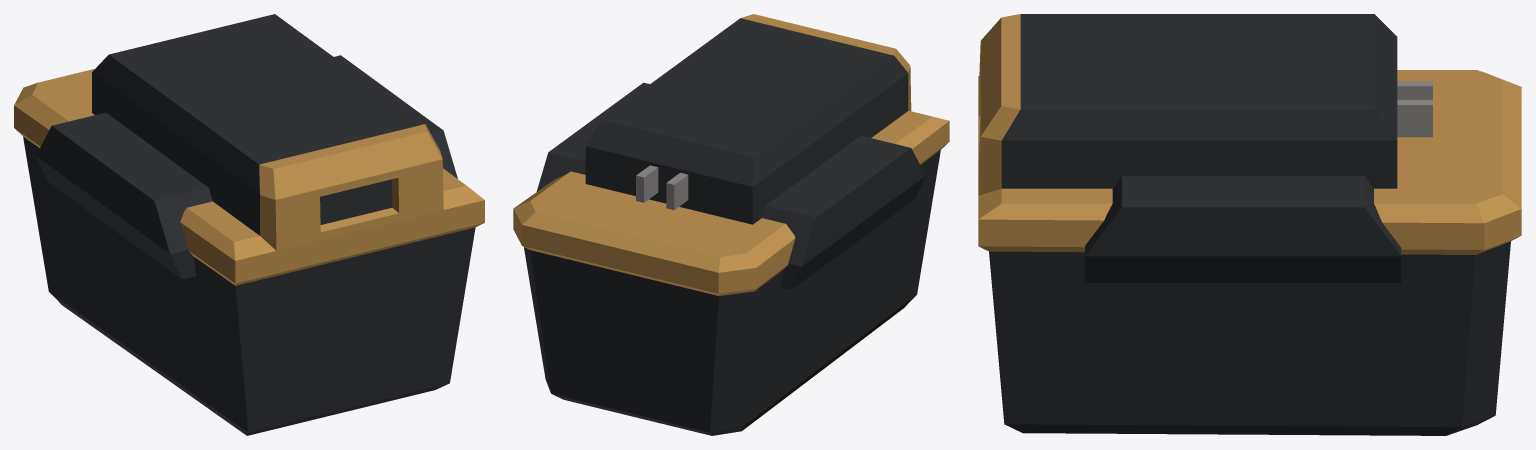
Rendered from SM_Tool_Battery_03.fbx.
3 renders of one model, left to right at view 1: azimuth 30°, elevation 25°; view 2: azimuth 150°, elevation 25°; view 3: azimuth 270°, elevation 25°, orthographic. The views are drawn at different scales.
Parts seen in each view (by area): view 1: SM_Tool_Battery_03; view 2: SM_Tool_Battery_03; view 3: SM_Tool_Battery_03.
Part boxes in pixels (x1,y1,x2,y2): SM_Tool_Battery_03: (14, 14, 484, 435); SM_Tool_Battery_03: (513, 14, 949, 435); SM_Tool_Battery_03: (978, 14, 1521, 435).
Size of the model in its own units: 12.52 by 11.14 by 17.29.
